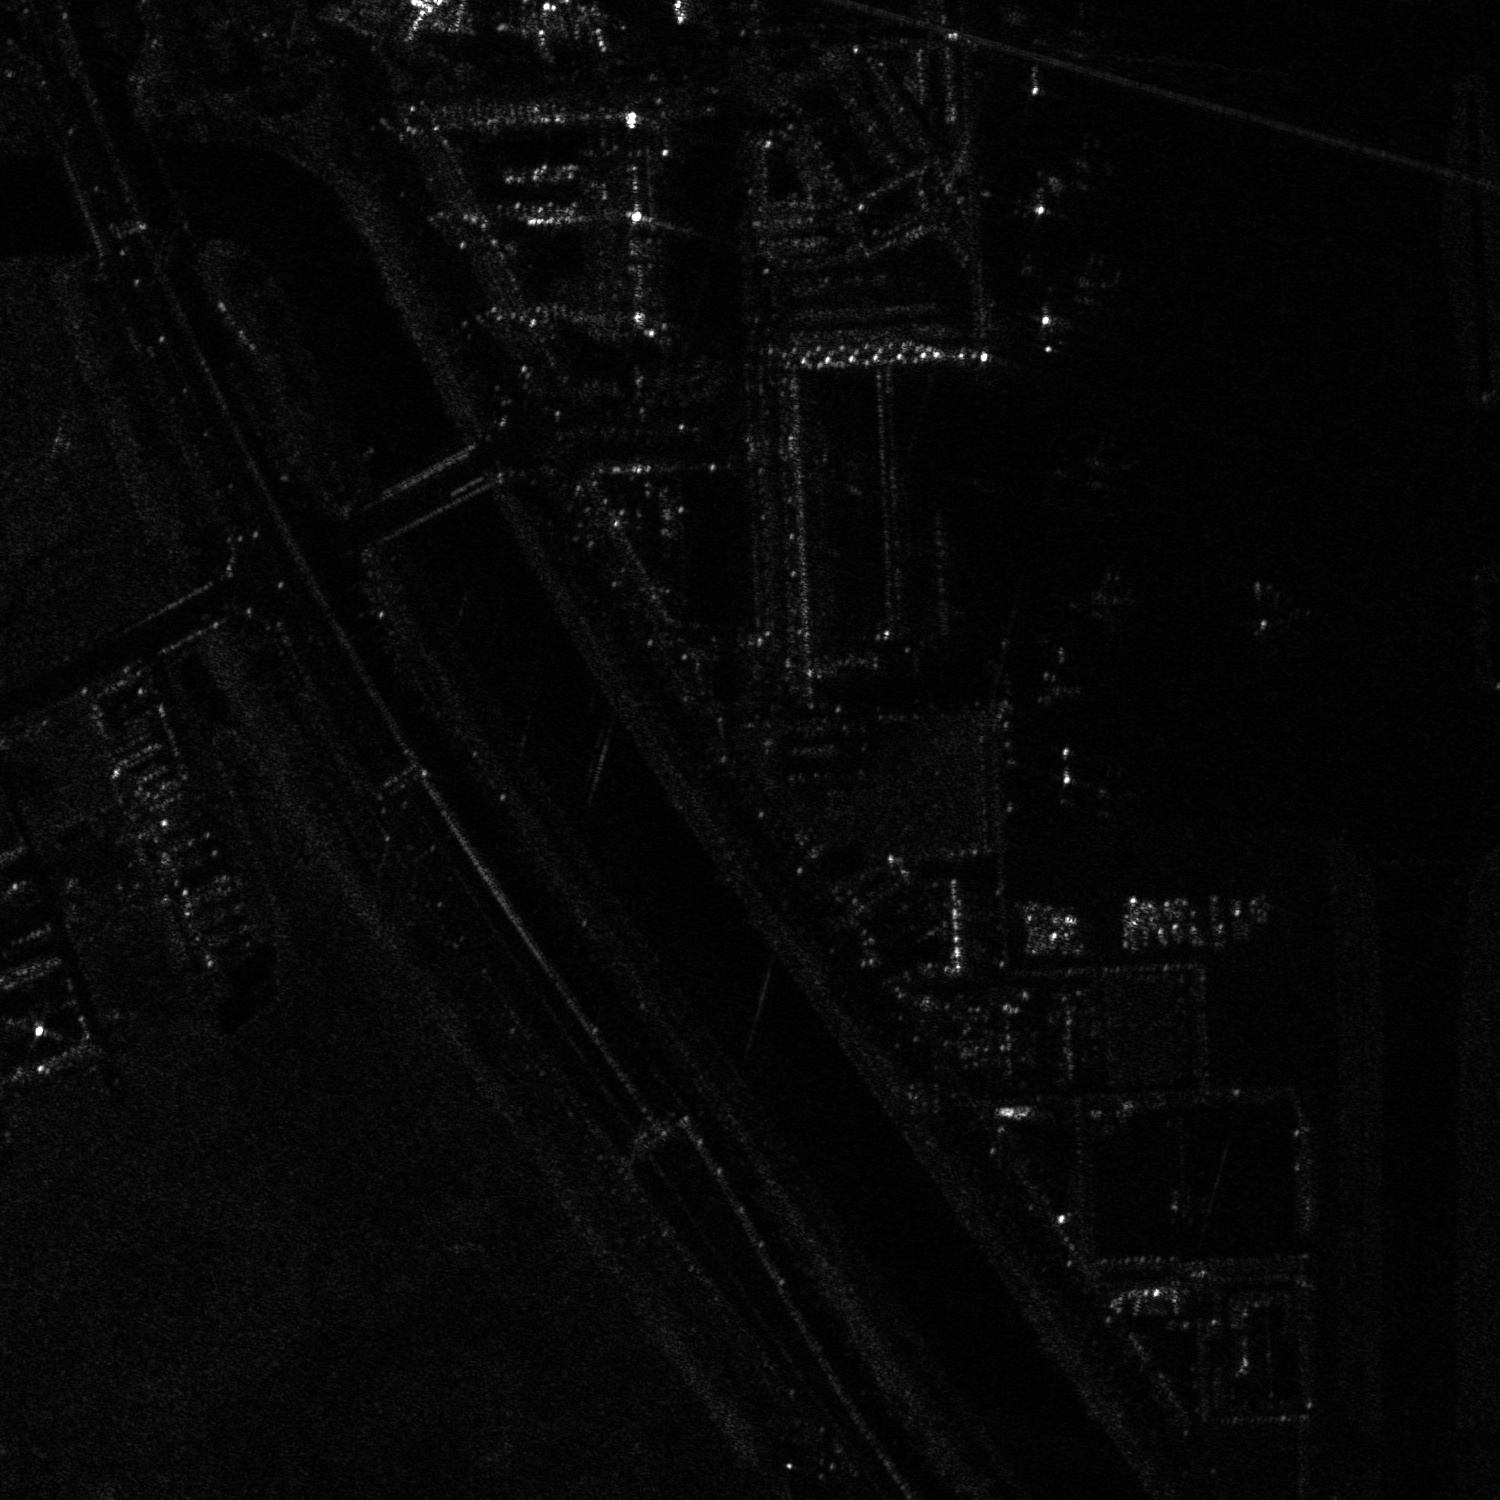A220: (1060, 567, 1141, 633), (1008, 165, 1085, 232), (1025, 299, 1080, 354), (1019, 66, 1065, 114)
other: (1223, 574, 1315, 651)
